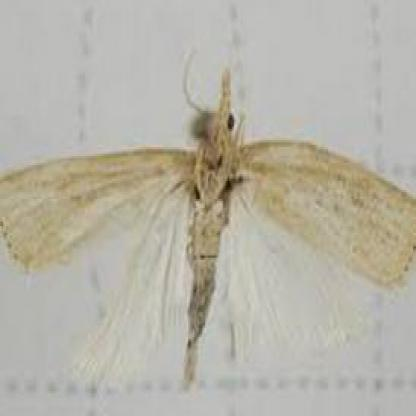stem-borer: (3, 68, 416, 376)
